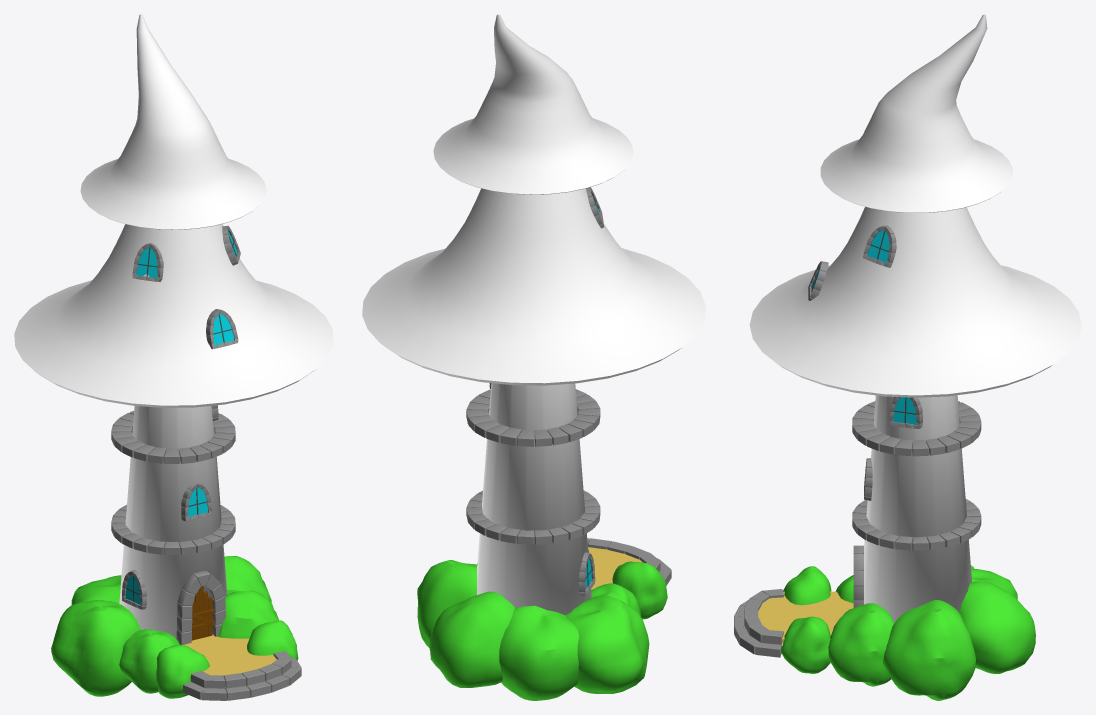
File: torre_magos.glb
The picture shows the model from 3 angles, left to right: view 1: azimuth 30°, elevation 25°; view 2: azimuth 150°, elevation 25°; view 3: azimuth 270°, elevation 25°; orthographic projection. The views are drawn at different scales.
Visible parts, largest first — view 1: Tejado01, Tejado02, Cuerpo Torre, Sphere.003, Escalones, Piedra Torre 02, Piedra Torre 01, Sphere.004, Suelo, Sphere.002, Piedras Puerta, Sphere.001 (+8 smaller); view 2: Tejado01, Tejado02, Cuerpo Torre, Sphere.005, Sphere.003, Sphere.006, Piedra Torre 02, Sphere.007, Piedra Torre 01, Sphere.001, Suelo, Escalones (+2 smaller); view 3: Tejado01, Tejado02, Cuerpo Torre, Sphere.007, Sphere.006, Sphere.002, Piedra Torre 02, Piedra Torre 01, Sphere, Suelo, Escalones, Sphere.001 (+4 smaller).
Part boxes in pixels (left/top/right/bottom): Tejado01: left=14, top=224, right=333, bottom=407; Tejado02: left=80, top=14, right=266, bottom=229; Cuerpo Torre: left=119, top=406, right=227, bottom=638; Sphere.003: left=51, top=600, right=141, bottom=696; Escalones: left=183, top=651, right=301, bottom=700; Piedra Torre 02: left=111, top=411, right=235, bottom=463; Piedra Torre 01: left=111, top=504, right=235, bottom=554; Sphere.004: left=119, top=629, right=179, bottom=693; Suelo: left=183, top=634, right=276, bottom=679; Sphere.002: left=217, top=590, right=279, bottom=638; Piedras Puerta: left=176, top=570, right=225, bottom=644; Sphere.001: left=156, top=644, right=209, bottom=698; Tejado01: left=362, top=188, right=705, bottom=385; Tejado02: left=433, top=14, right=633, bottom=194; Cuerpo Torre: left=477, top=383, right=591, bottom=614; Sphere.005: left=499, top=605, right=578, bottom=700; Sphere.003: left=565, top=595, right=649, bottom=693; Sphere.006: left=429, top=591, right=514, bottom=687; Piedra Torre 02: left=466, top=389, right=600, bottom=446; Sphere.007: left=417, top=560, right=477, bottom=647; Piedra Torre 01: left=466, top=490, right=600, bottom=544; Sphere.001: left=612, top=561, right=667, bottom=619; Suelo: left=588, top=547, right=642, bottom=589; Escalones: left=587, top=538, right=671, bottom=585; Tejado01: left=749, top=207, right=1081, bottom=397; Tejado02: left=820, top=14, right=1012, bottom=212; Cuerpo Torre: left=864, top=395, right=971, bottom=622; Sphere.007: left=883, top=600, right=975, bottom=700; Sphere.006: left=959, top=581, right=1035, bottom=673; Sphere.002: left=828, top=603, right=894, bottom=686; Piedra Torre 02: left=852, top=401, right=981, bottom=456; Piedra Torre 01: left=852, top=499, right=981, bottom=550; Sphere: left=781, top=616, right=830, bottom=673; Suelo: left=758, top=591, right=853, bottom=643; Escalones: left=734, top=589, right=783, bottom=657; Sphere.001: left=783, top=566, right=831, bottom=605.
Bounding box in the file's own units: 11.31 × 24.76 × 11.84.
